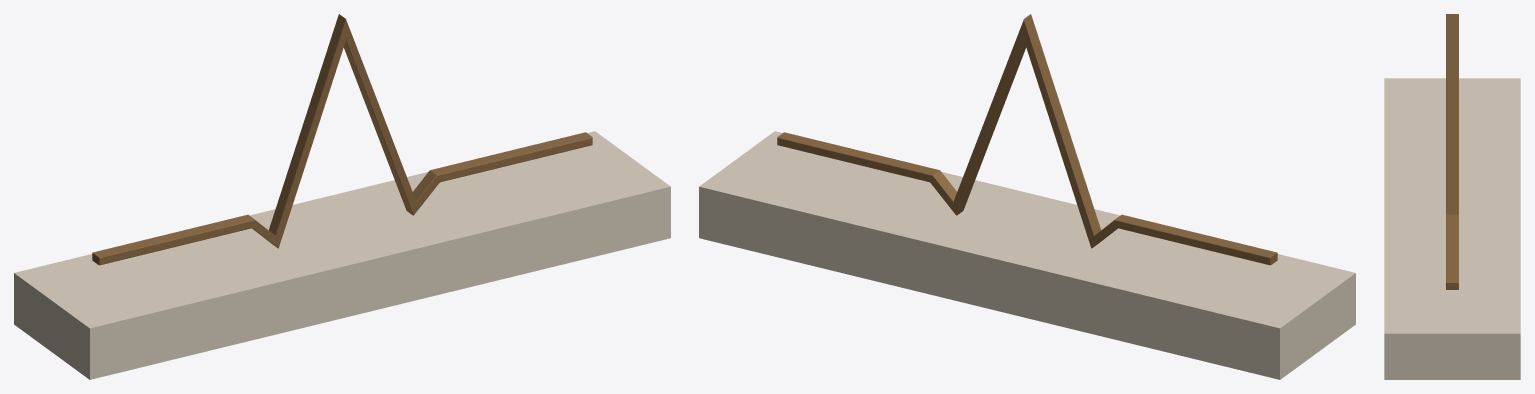
File: pulse-roof.glb
The picture shows the model from 3 angles, left to right: view 1: azimuth 30°, elevation 25°; view 2: azimuth 150°, elevation 25°; view 3: azimuth 270°, elevation 25°; orthographic projection. The views are drawn at different scales.
Visible parts, largest first — view 1: plinth, line; view 2: plinth, line; view 3: plinth, line.
Part boxes in pixels (x1=…): plinth: x1=14, y1=131, x2=670, y2=379; line: x1=92, y1=14, x2=592, y2=265; plinth: x1=699, y1=131, x2=1355, y2=379; line: x1=777, y1=14, x2=1277, y2=265; plinth: x1=1384, y1=78, x2=1520, y2=379; line: x1=1446, y1=14, x2=1458, y2=289.
Size of the model in its own units: 0.708 by 0.3084 by 0.16.
